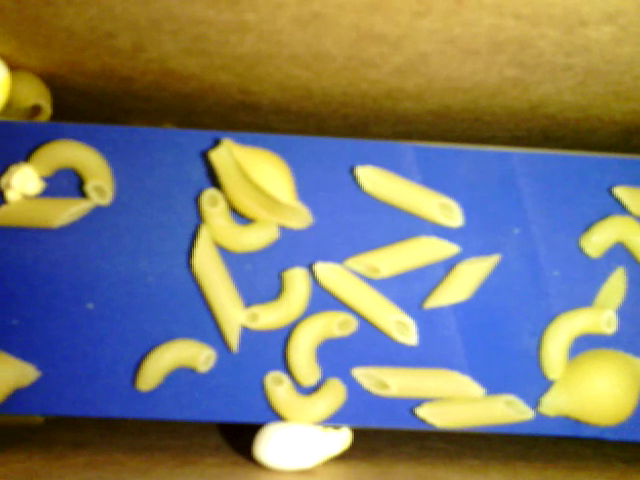elbow: (25, 135, 114, 208), (538, 303, 617, 380), (283, 309, 357, 389), (198, 184, 283, 252), (262, 369, 353, 423), (137, 337, 217, 390), (248, 267, 312, 332), (580, 210, 637, 261)
penne: (312, 262, 421, 348), (350, 163, 467, 230), (187, 224, 247, 351), (340, 235, 462, 281), (413, 388, 533, 430), (420, 251, 501, 310), (352, 362, 487, 395), (3, 196, 94, 232)
shell: (204, 137, 312, 231), (535, 351, 636, 425), (1, 67, 57, 125)
